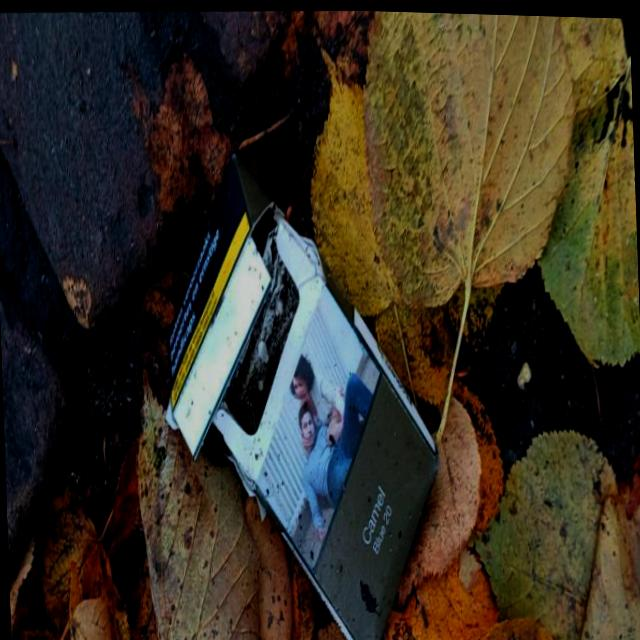Paper: (151, 129, 447, 640)
